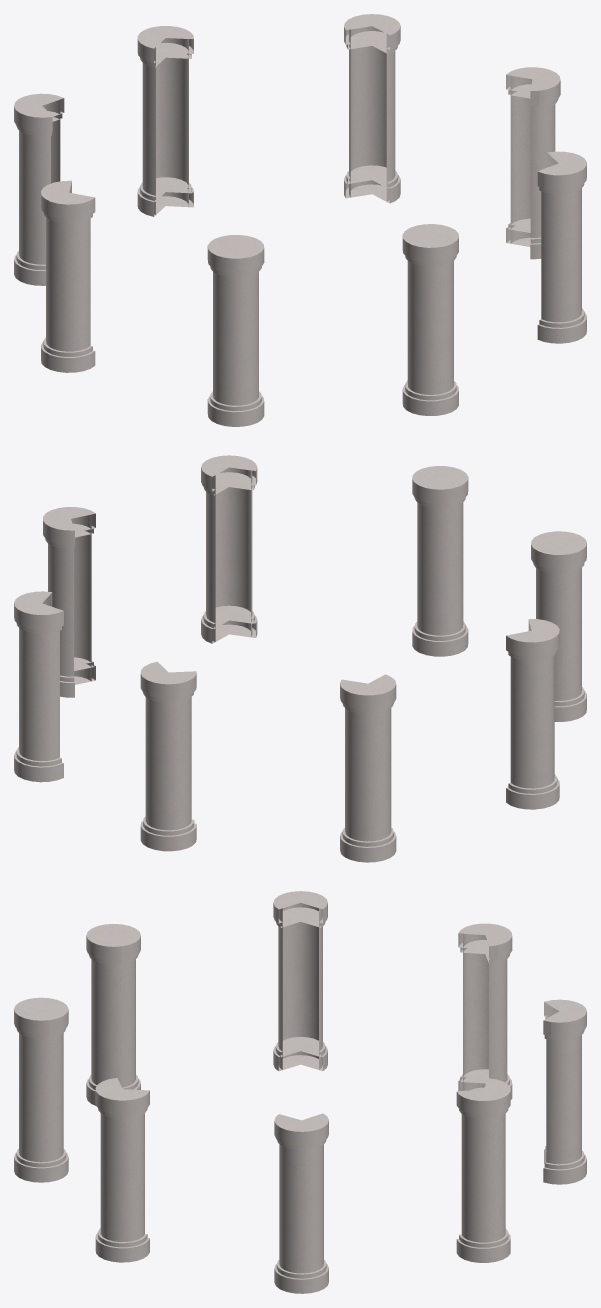
The model's file is columnas.obj.
The picture shows the model from 3 angles, top to bottom: view 1: azimuth 30°, elevation 25°; view 2: azimuth 150°, elevation 25°; view 3: azimuth 270°, elevation 25°; orthographic projection. The views are drawn at different scales.
Visible parts, largest first — view 1: columna5, columna8, columna18, columna17, columna15, columna20, columna19, columna16; view 2: columna5, columna16, columna20, columna17, columna15, columna18, columna19, columna8; view 3: columna5, columna15, columna19, columna20, columna18, columna8, columna16, columna17.
Part boxes in pixels (x1,y1,x2,y2): columna5: (402, 224, 458, 415); columna8: (207, 235, 264, 426); columna18: (344, 14, 400, 203); columna17: (137, 26, 193, 216); columna15: (41, 180, 95, 372); columna20: (537, 151, 586, 343); columna19: (506, 67, 560, 259); columna16: (14, 93, 64, 285); columna5: (412, 466, 468, 656); columna16: (340, 674, 396, 862); columna20: (201, 455, 257, 643); columna17: (140, 661, 196, 851); columna15: (506, 619, 559, 809); columna18: (14, 591, 63, 782); columna19: (43, 507, 95, 697); columna8: (531, 531, 586, 721); columna5: (14, 997, 68, 1182); columna15: (273, 891, 327, 1071); columna19: (274, 1113, 328, 1293); columna20: (95, 1078, 149, 1262); columna18: (456, 1078, 510, 1262); columna8: (86, 923, 140, 1105); columna16: (458, 923, 512, 1099); columna17: (543, 999, 586, 1184).
Size of the model in its own units: 25.5 by 8 by 25.64.
Materials: 1 (1 with a texture image).
